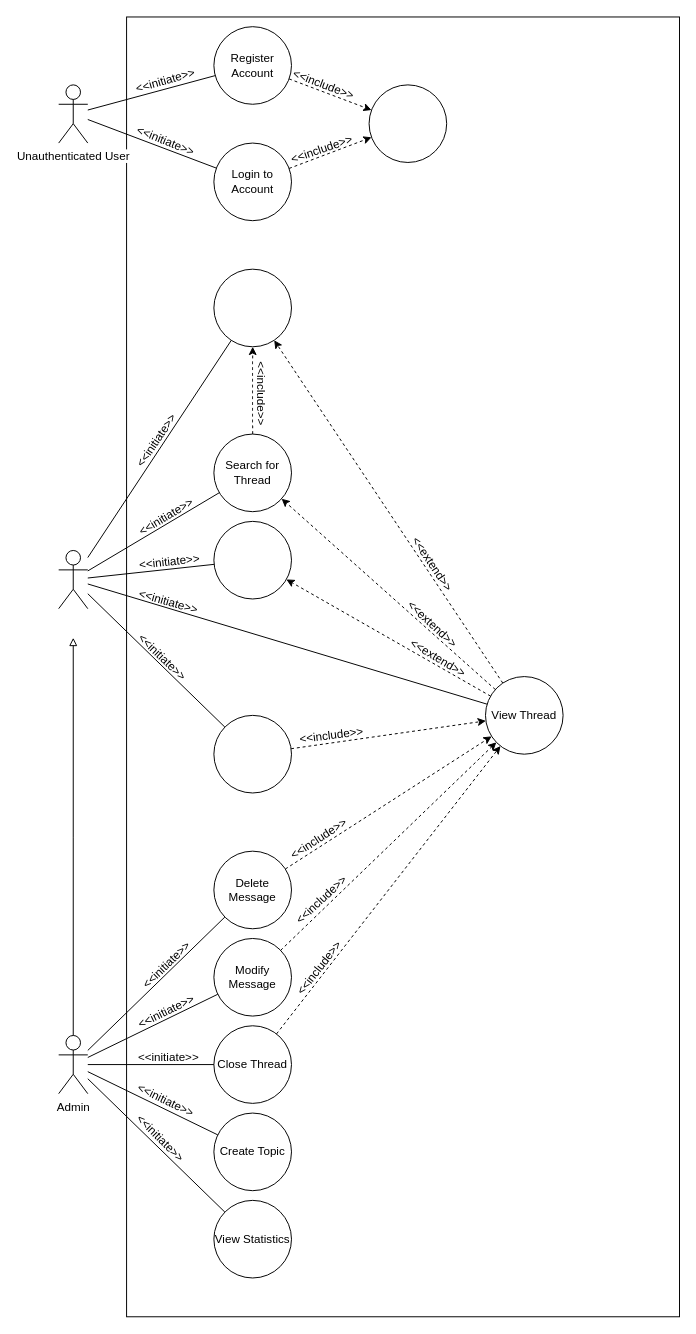
The diagram is 696 pixels wide and 1334 high, and some of its shapes have lost their labels. Each missing label, with the centre of its shape:
Authenticated User: the point at 73,579
Create Thread: the point at 252,559
Post Message: the point at 252,753
Provide Credentials: the point at 407,123
View Thread List: the point at 252,307
